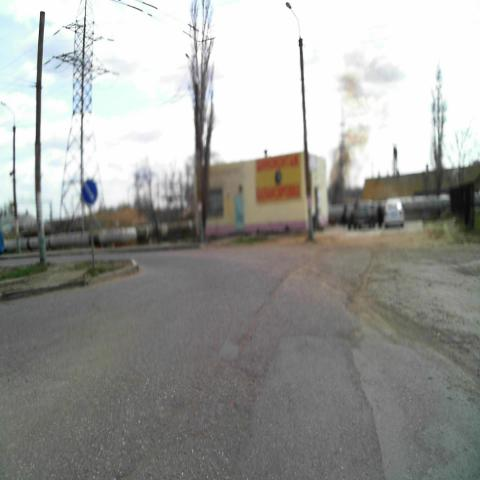4_2_1: (82, 176, 98, 205)
